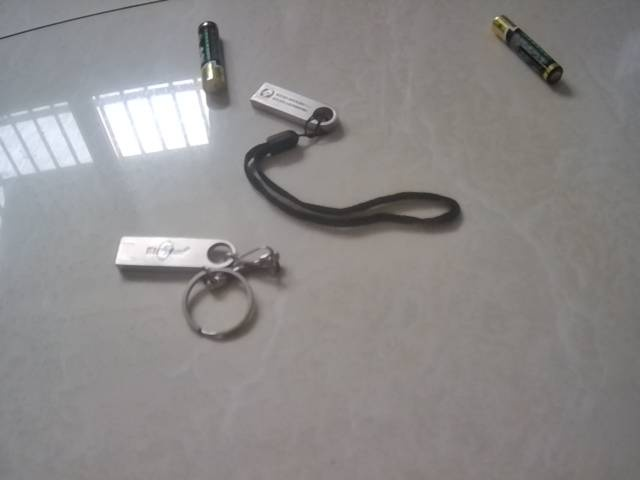U-disk: (248, 75, 470, 234), (111, 231, 286, 339)
battery: (485, 10, 567, 89), (191, 19, 239, 97)
